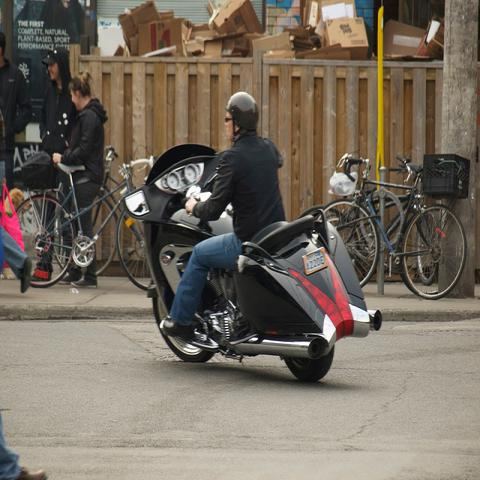motorcycle: (123, 143, 383, 384)
